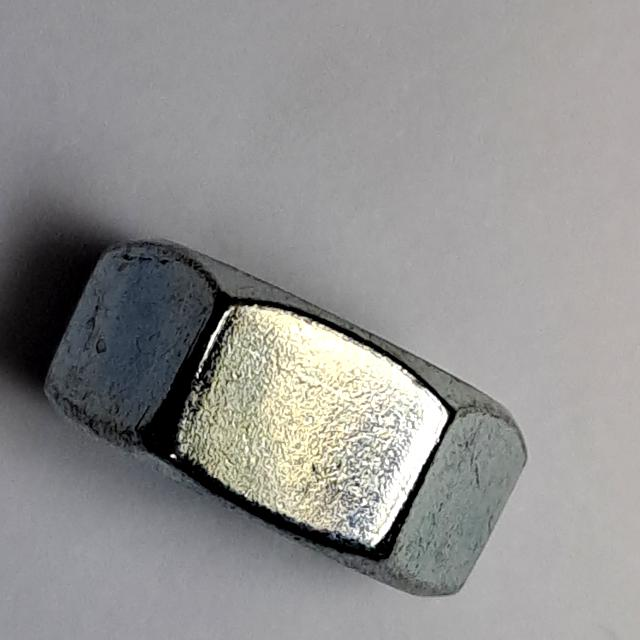Side_Excellent: (34, 226, 545, 606)
